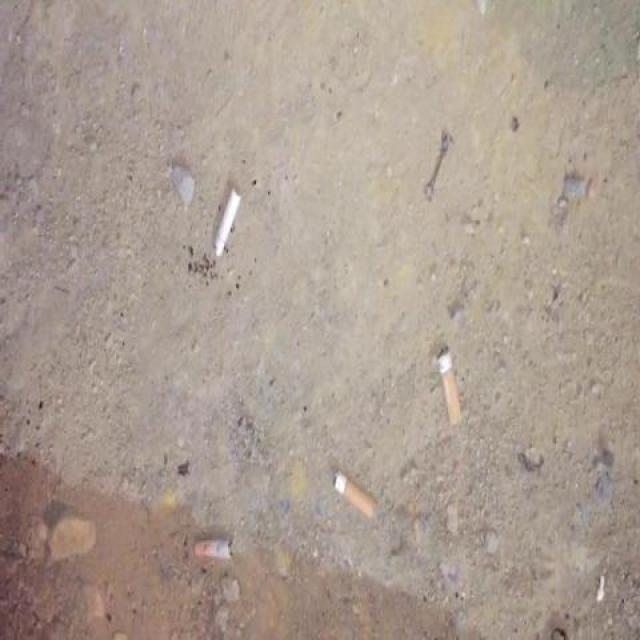non-organic waste: (431, 340, 469, 436), (331, 466, 384, 522), (207, 185, 246, 259)
